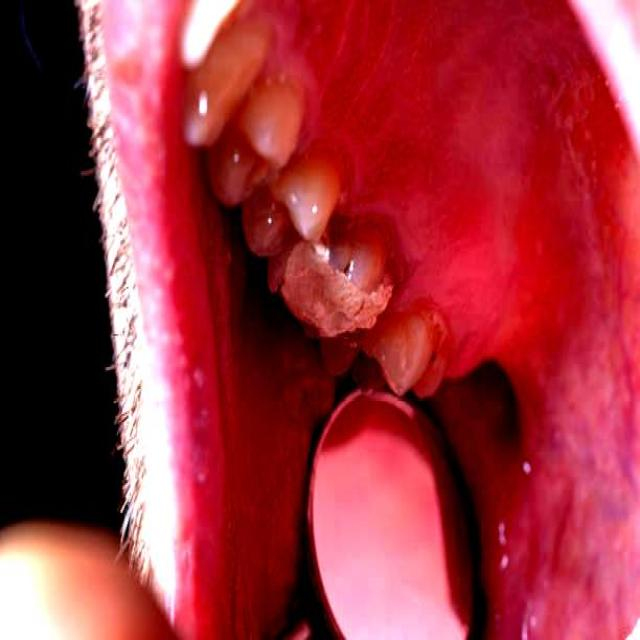caries: (282, 258, 380, 336)
